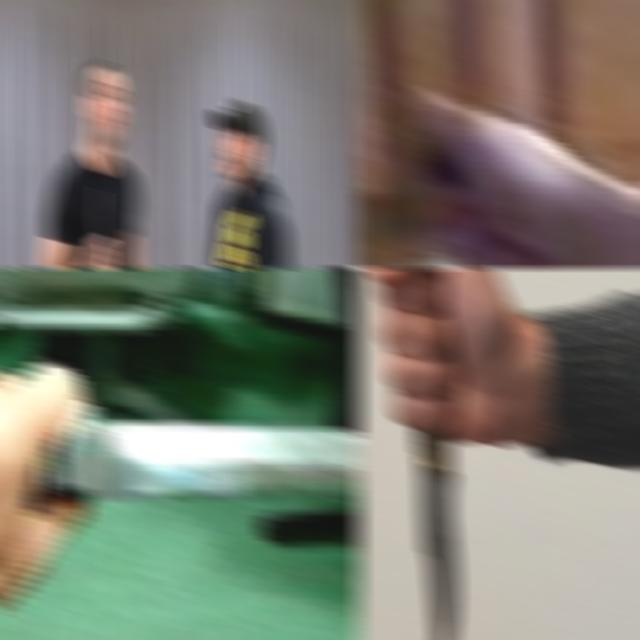Knife: (29, 402, 362, 508), (411, 426, 461, 640)
Knife_Handle: (391, 267, 542, 640), (409, 84, 640, 269), (85, 188, 114, 269)
